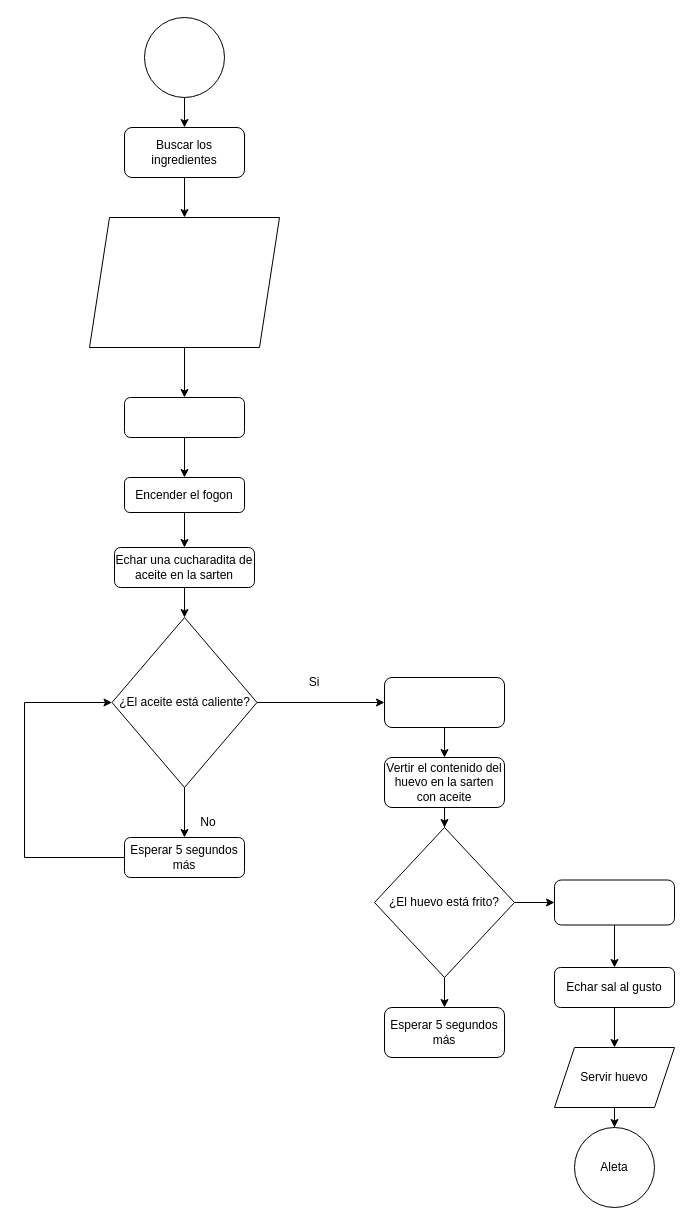
The diagram is 692 pixels wide and 1225 high, and some of its shapes have lost their labels. The shapes that lost their labels are listed below. From the top down, each one's centre as x and y in pixels, then its label:
At [184,57]: "INICIO".
At [184,282]: "-Un huevo -Aceite -Sarten -Sal -Cuchara -Fogon".
At [184,417]: "Colocar la sarten".
At [444,702]: "Romper el huevo con cuidado".
At [614,902]: "Apagar fogon".
